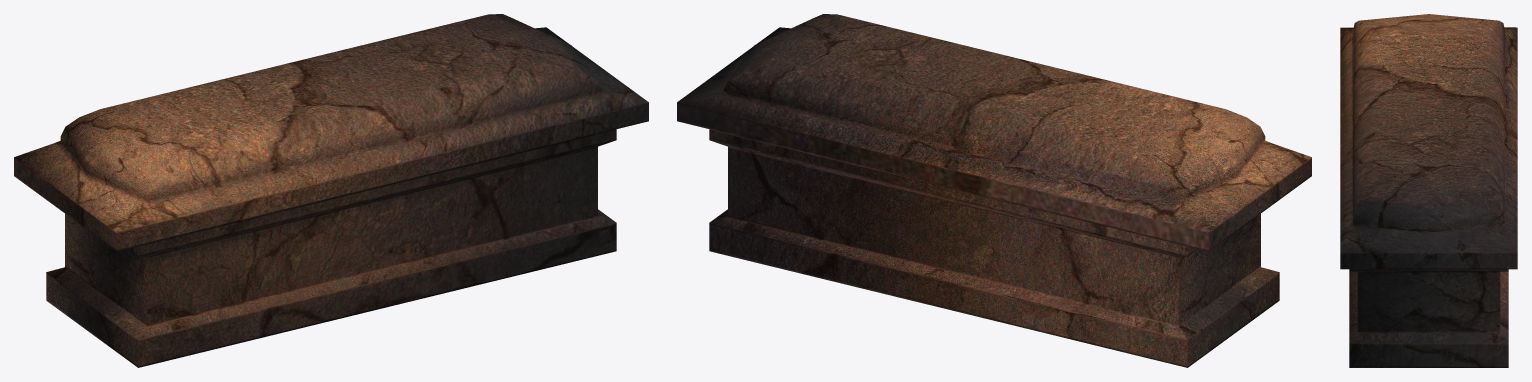
File: coffin_export.fbx
3 renders of one model, left to right at view 1: azimuth 30°, elevation 25°; view 2: azimuth 150°, elevation 25°; view 3: azimuth 270°, elevation 25°, orthographic. The views are drawn at different scales.
Visible parts, largest first — view 1: coffin01.001; view 2: coffin01.001; view 3: coffin01.001.
Boxes of the visible parts, left/top/right/bottom form: coffin01.001: left=14, top=14, right=648, bottom=367; coffin01.001: left=677, top=14, right=1311, bottom=367; coffin01.001: left=1340, top=14, right=1517, bottom=367.
Bounding box in the file's own units: 334 × 116 × 111.
